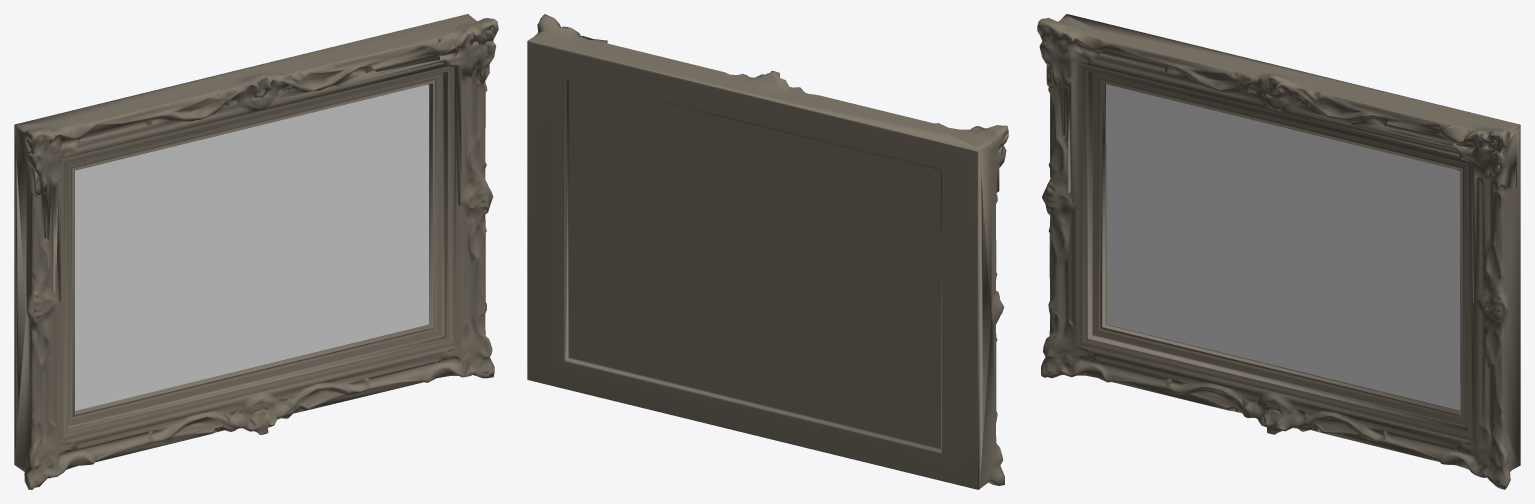
Rendered from frame.fbx.
The picture shows the model from 3 angles, left to right: view 1: azimuth 30°, elevation 25°; view 2: azimuth 150°, elevation 25°; view 3: azimuth 330°, elevation 25°; orthographic projection.
Visible parts, largest first — view 1: SM_Frame_Ornate_01.002; view 2: SM_Frame_Ornate_01.002; view 3: SM_Frame_Ornate_01.002.
Part boxes in pixels (x1,y1,x2,y2): SM_Frame_Ornate_01.002: (14,14,498,489); SM_Frame_Ornate_01.002: (527,14,1008,489); SM_Frame_Ornate_01.002: (1037,14,1520,489).
Size of the model in its own units: 109 by 80.06 by 10.25.
